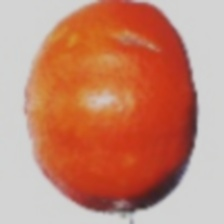tangerine: (30, 48, 220, 205)
